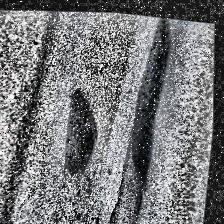pothole: (110, 12, 194, 182), (56, 83, 114, 177)
